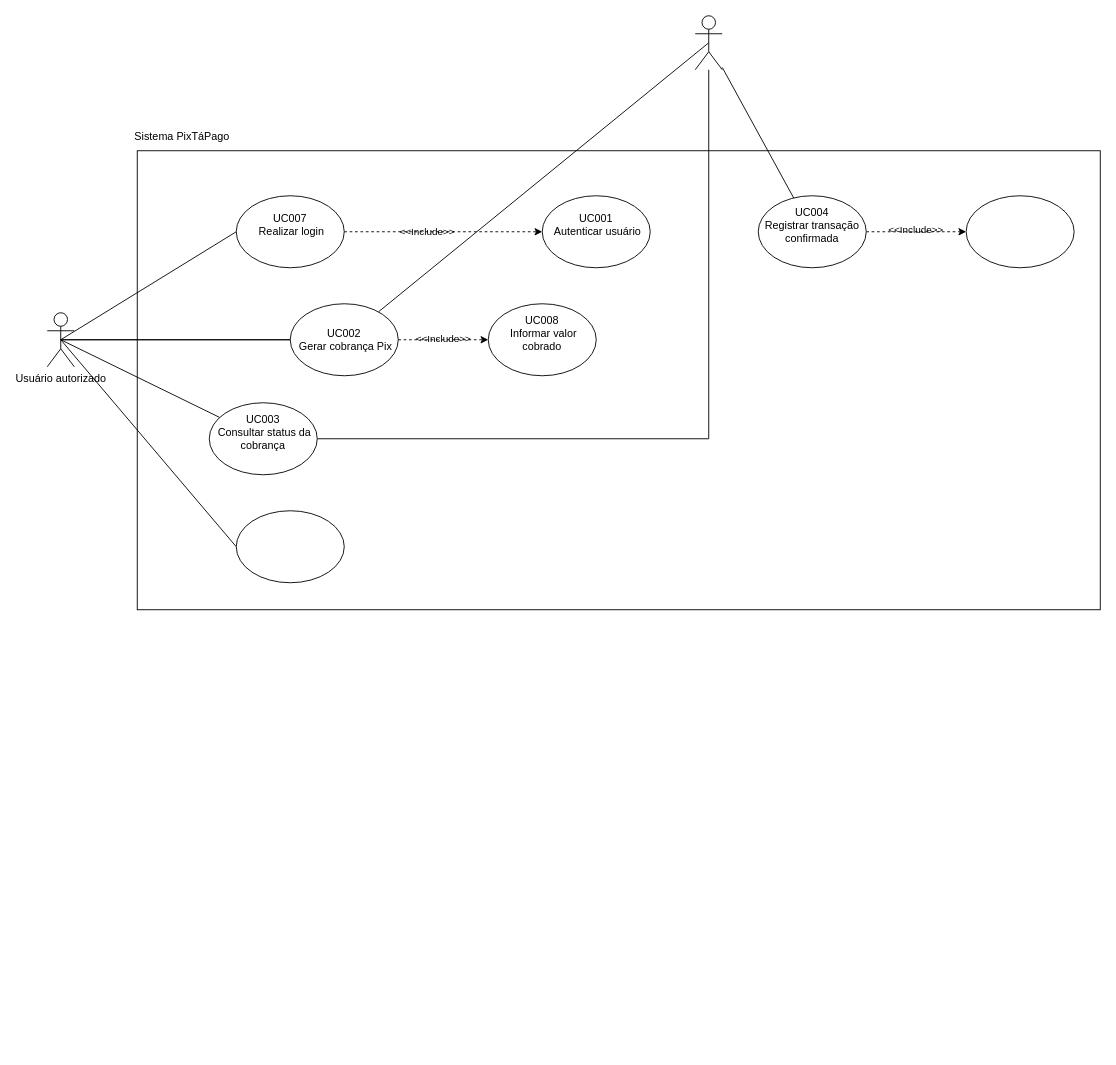
Some shapes in this 1116 by 1065 pixel diagram are drawn without their labels. The centre of each missing label's shape, as x and y in pixels:
API Pix Banco do Brasil: (708,42)
UC005 Consultar historórico de recebimento: (289,546)
UC006 Notificar confirmação de pagamento: (1019,231)
